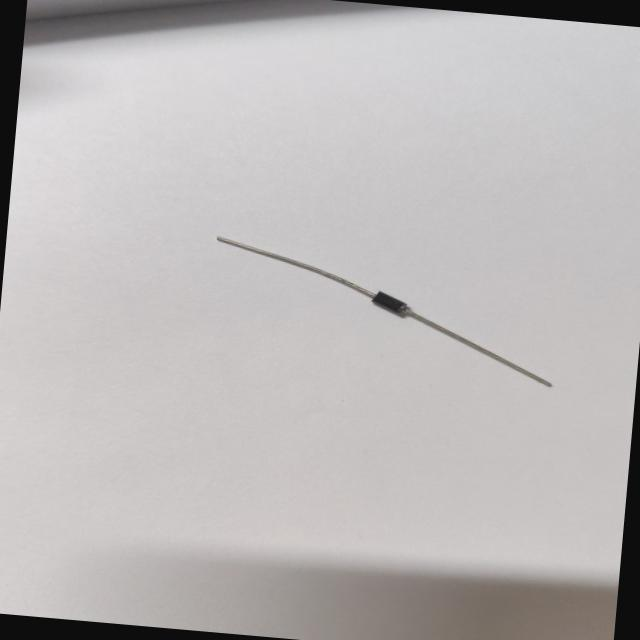resistor: (192, 229, 578, 395)
